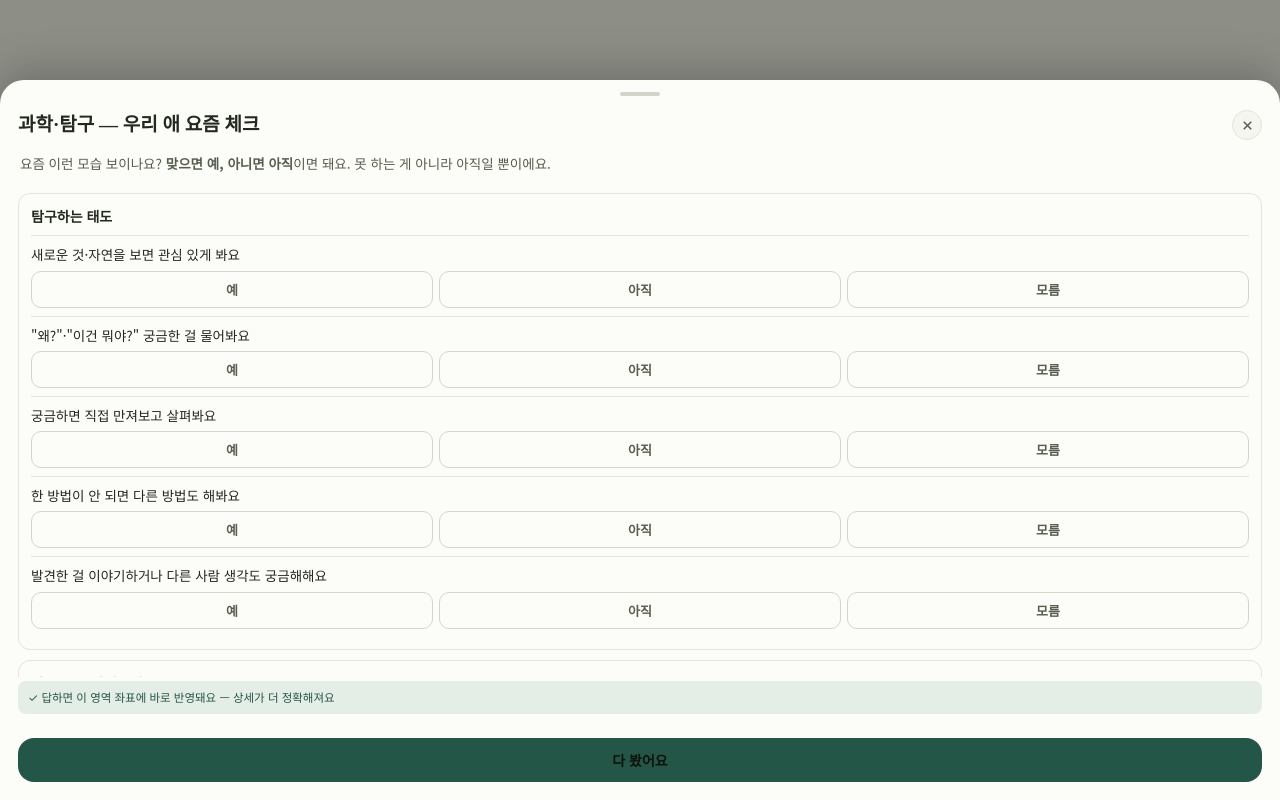
Test: §10 관찰 체크 (영역별) › 완료 후 안도 톤 결과
The image size is (1280, 800).
Step 1. Click the button "다 봤어요" → point(640, 760), box [18,738,1262,782]
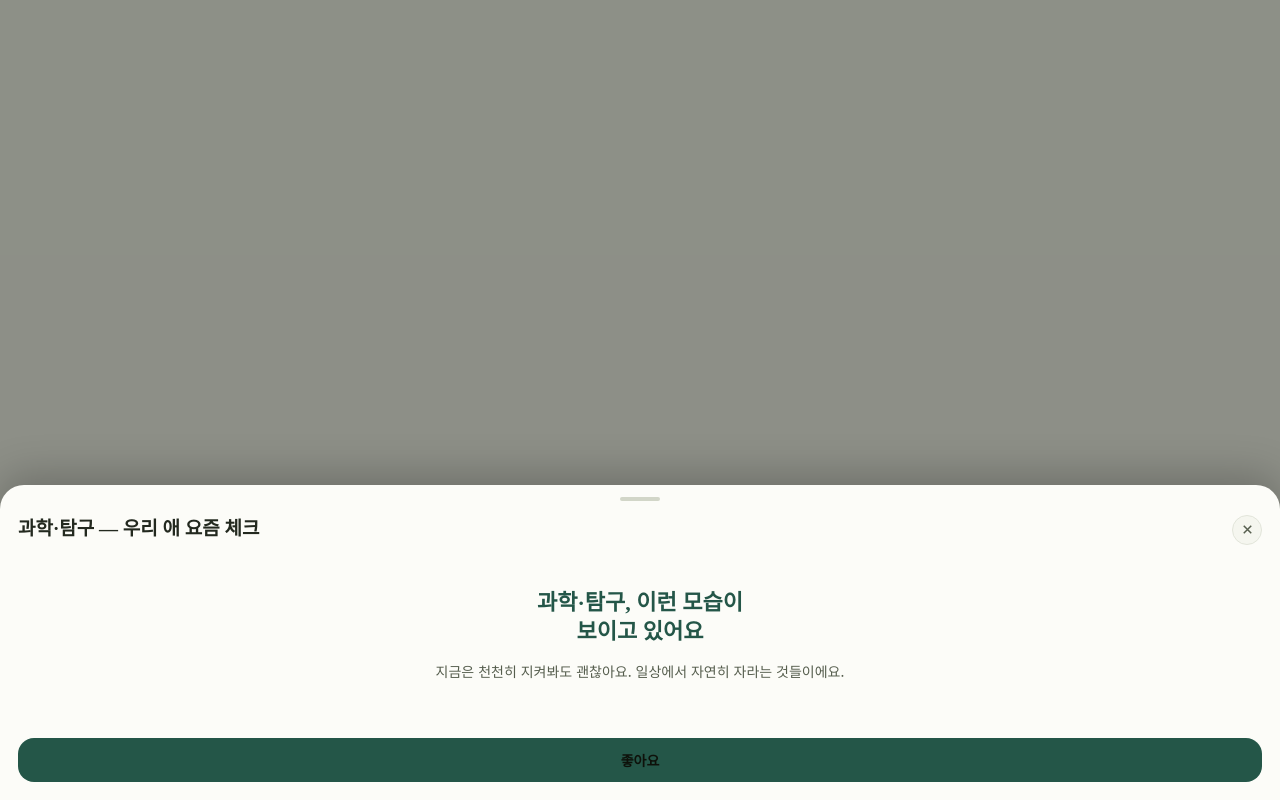
Expected: the element with test id "gc-result" is shown, [436,590,844,681]
Expected: the text "보이고 있어요" is shown, [576,619,704,644]
